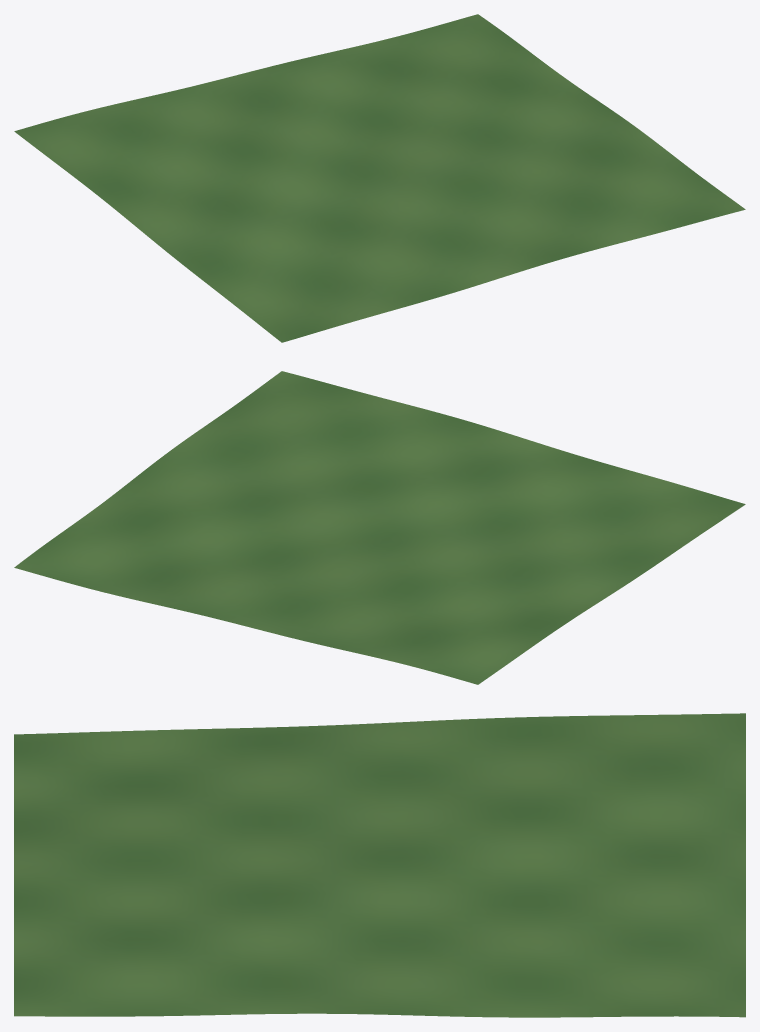
The model's file is chunk_1_2.glb.
3 renders of one model, top to bottom at view 1: azimuth 30°, elevation 25°; view 2: azimuth 150°, elevation 25°; view 3: azimuth 270°, elevation 25°, orthographic. The views are drawn at different scales.
Bounding box in the file's own units: 512 × 23.18 × 512.
